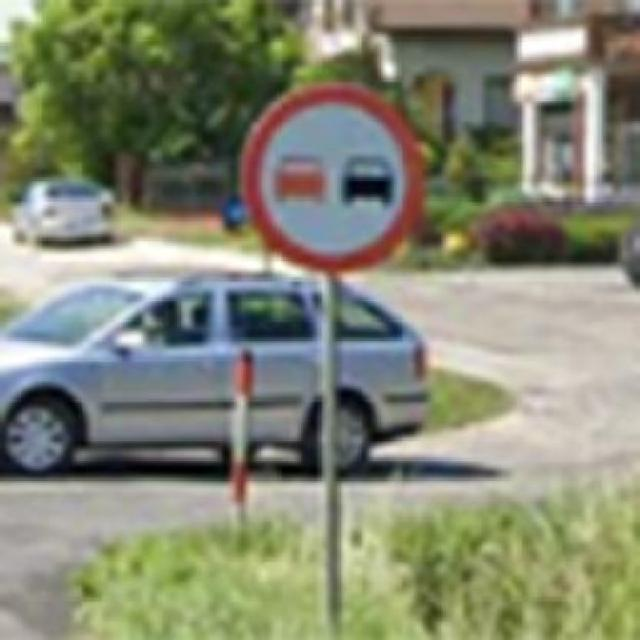Zakaz wyprzedzania: (240, 79, 423, 275)
